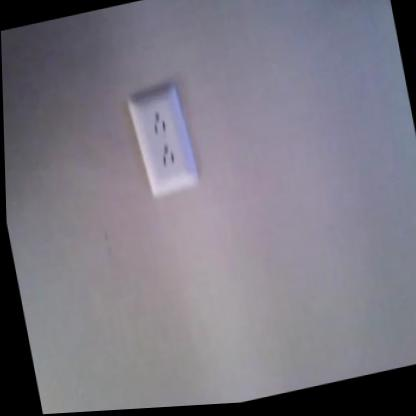OUTLET: (127, 85, 197, 201)
